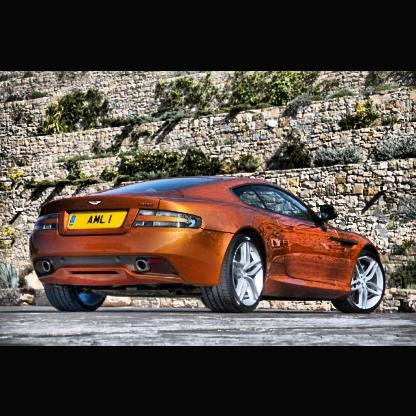Aston Martin Virage Coupe 2012: (30, 175, 388, 316)
